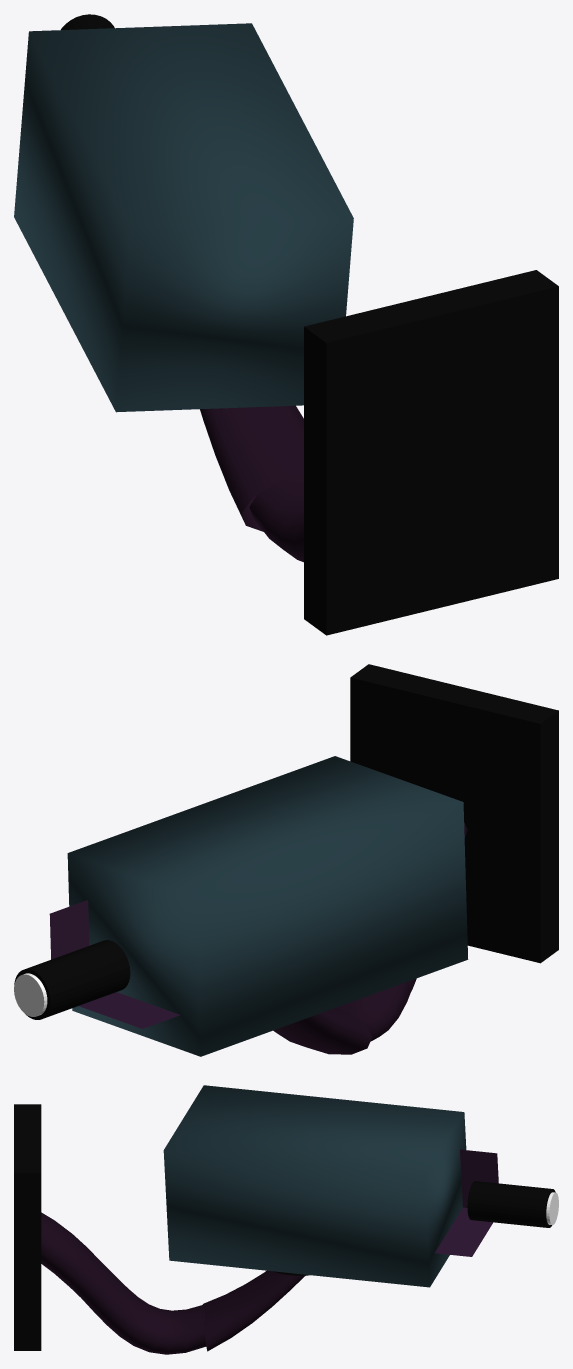
File: Camara video_Hector.glb
3 renders of one model, top to bottom at view 1: azimuth 30°, elevation 25°; view 2: azimuth 150°, elevation 25°; view 3: azimuth 270°, elevation 25°, orthographic. The views are drawn at different scales.
Parts seen in each view (by area): view 1: Parte Mobil, Parte Fija; view 2: Parte Mobil, Parte Fija; view 3: Parte Mobil, Parte Fija.
Boxes of the visible parts, x1,y1,x2,y2 form: Parte Mobil: (14,14,353,412); Parte Fija: (200,270,558,635); Parte Mobil: (14,756,468,1056); Parte Fija: (273,664,558,1054); Parte Mobil: (163,1085,558,1287); Parte Fija: (14,1104,309,1354).
Bounding box in the file's own units: 2.47 × 2.73 × 6.13.
